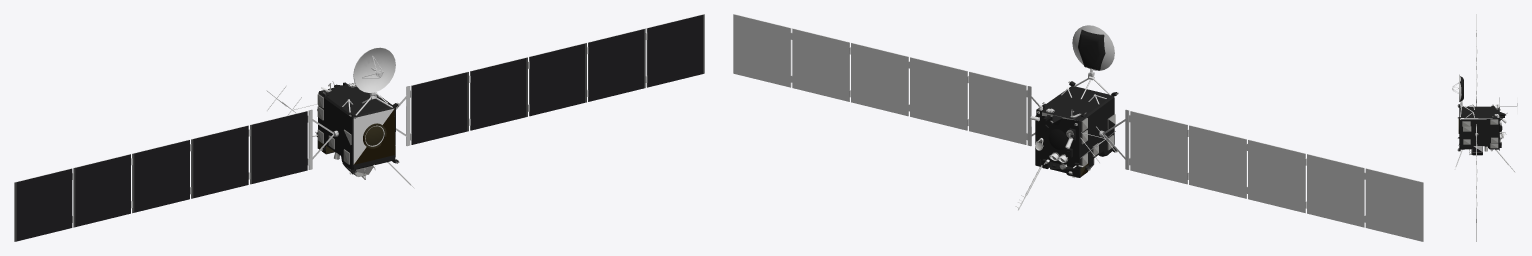
The model's file is rosetta.glb.
3 views of the same model, side by side, from view 1: azimuth 30°, elevation 25°; view 2: azimuth 150°, elevation 25°; view 3: azimuth 270°, elevation 25° (orthographic). The views are drawn at different scales.
Visible parts, largest first — view 1: solar-panel, body, foil; view 2: solar-panel, body; view 3: body, solar-panel.
Part boxes in pixels (box(x1,y1,x2,y2)): solar-panel: box(14, 14, 704, 241); body: box(266, 47, 414, 188); foil: box(318, 109, 395, 164); solar-panel: box(733, 14, 1423, 241); body: box(1015, 25, 1118, 210); body: box(1452, 74, 1517, 172); solar-panel: box(1472, 14, 1482, 241).
Size of the model in its own units: 31.96 by 6.89 by 4.55.
